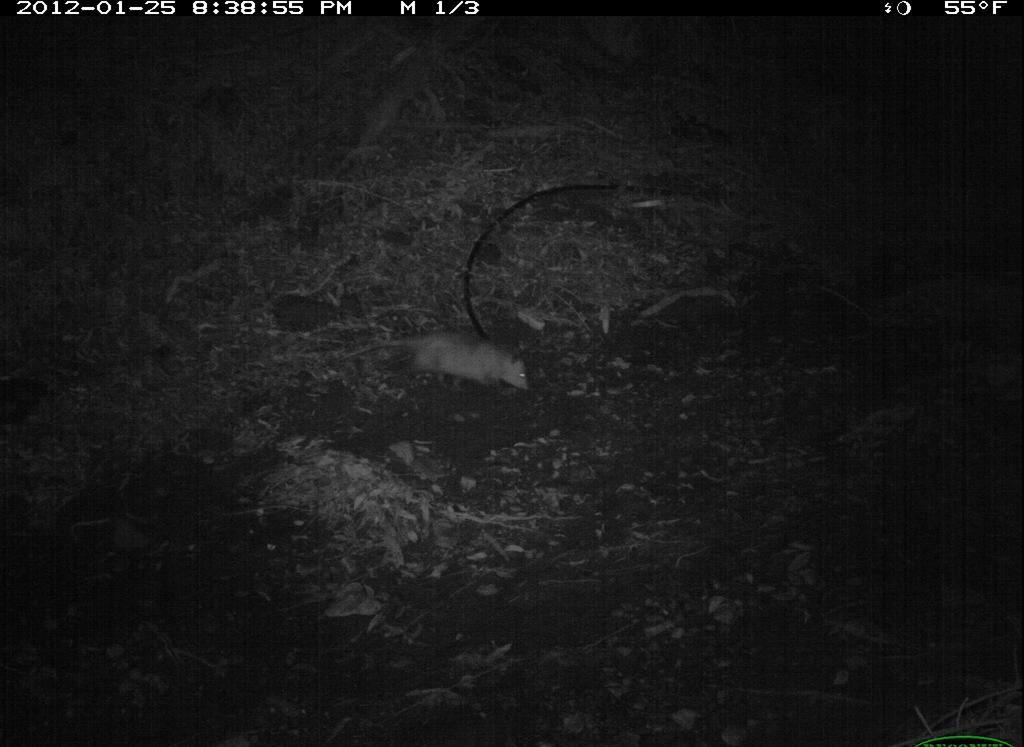opossum: (368, 323, 542, 405)
